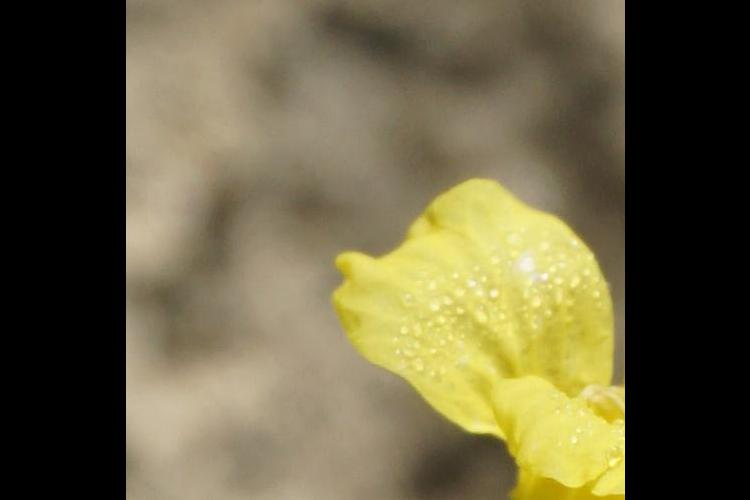yellow: (338, 190, 617, 500)
